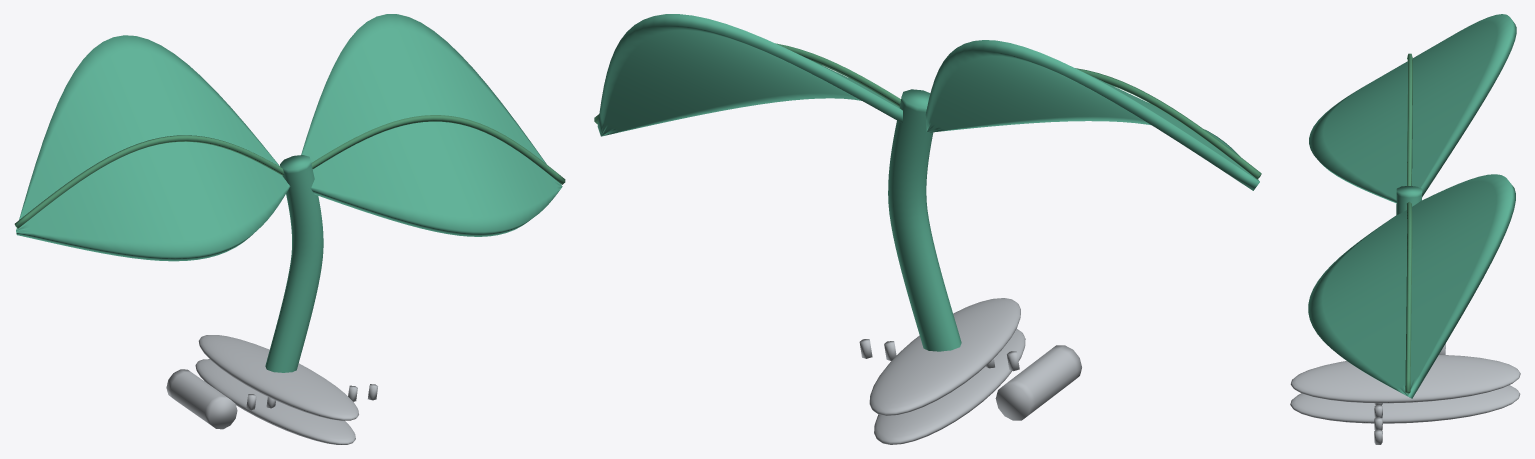
Rendered from Feminine-twin-braids-pashmina249-sprout.glb.
The picture shows the model from 3 angles, left to right: view 1: azimuth 30°, elevation 25°; view 2: azimuth 150°, elevation 25°; view 3: azimuth 270°, elevation 25°; orthographic projection. The views are drawn at different scales.
Parts seen in each view (by area): view 1: 226 extra / Accessory / mint226, 226 extra / Sprout / clip silver235, 226 extra / Sprout / leaf vein235; view 2: 226 extra / Accessory / mint226, 226 extra / Sprout / clip silver235, 226 extra / Sprout / leaf vein235; view 3: 226 extra / Accessory / mint226, 226 extra / Sprout / clip silver235, 226 extra / Sprout / leaf vein235.
Boxes of the visible parts, <box> form: 226 extra / Accessory / mint226: <box>16,14,562,372</box>; 226 extra / Sprout / clip silver235: <box>166,335,377,444</box>; 226 extra / Sprout / leaf vein235: <box>14,115,565,228</box>; 226 extra / Accessory / mint226: <box>597,14,1259,351</box>; 226 extra / Sprout / clip silver235: <box>859,298,1081,444</box>; 226 extra / Sprout / leaf vein235: <box>594,43,1261,179</box>; 226 extra / Accessory / mint226: <box>1308,14,1516,398</box>; 226 extra / Sprout / clip silver235: <box>1290,343,1520,444</box>; 226 extra / Sprout / leaf vein235: <box>1405,53,1412,393</box>.
Bounding box in the file's own units: 0.2685 × 0.1684 × 0.1035.
